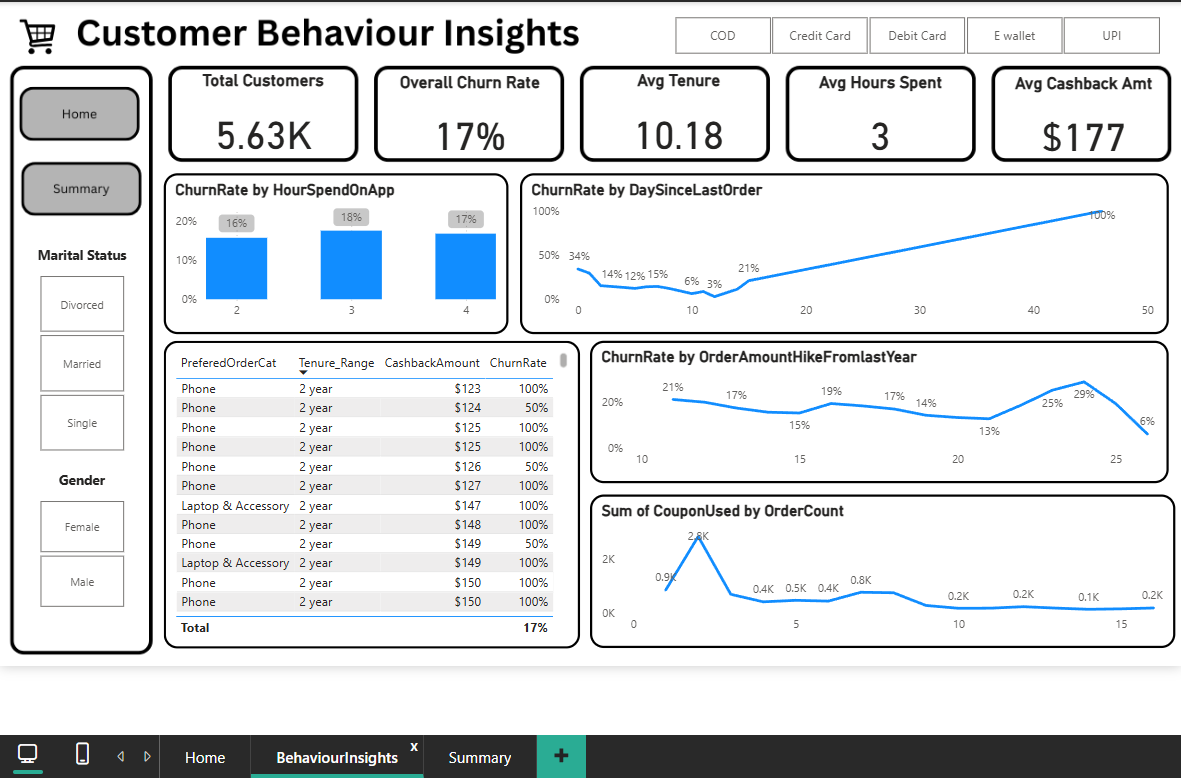

The page's visual inventory and layout, read from the dashboard file:
{"tool":"powerbi","page":{"name":"BehaviourInsights","canvas":[1280,720],"ordinal":1},"visuals":[{"type":"cardVisual","title":"Overall Churn Rate","fields":{"Data":["E Comm.ChurnRate"]},"box":[414.6,75.9,189.7,92.1],"z":0},{"type":"slicer","fields":{"Values":["E Comm.MaritalStatus"]},"box":[17.6,289.9,140.9,203.2],"z":1000},{"type":"cardVisual","title":"Avg Hours Spent","fields":{"Data":["Avg(E Comm.HourSpendOnApp)"]},"box":[860.3,75.3,188.3,92.7],"z":2000},{"type":"slicer","fields":{"Values":["E Comm.PreferredPaymentMode"]},"box":[705.3,10.1,575,53.6],"z":3000},{"type":"cardVisual","title":"Avg Tenure","fields":{"Data":["Avg(E Comm.Tenure)"]},"box":[640.1,73.9,189.7,92.7],"z":4000},{"type":"cardVisual","title":"Total Customers","fields":{"Data":["Count(E Comm.CustomerID)"]},"box":[189.7,73.9,191.2,92.7],"z":5000},{"type":"cardVisual","title":"Avg Cashback Amt","fields":{"Data":["Avg(E Comm.CashbackAmount)"]},"box":[1082.5,77.2,184.3,90.8],"z":6000},{"type":"clusteredColumnChart","fields":{"Y":["E Comm.ChurnRate"],"Category":["E Comm.HourSpendOnApp"]},"box":[177.5,185.6,373.9,174.8],"z":7000},{"type":"lineChart","fields":{"Category":["E Comm.OrderAmountHikeFromlastYear"],"Y":["E Comm.ChurnRate"]},"box":[639.5,367.1,627.3,154.4],"z":8000},{"type":"lineChart","fields":{"Category":["E Comm.DaySinceLastOrder"],"Y":["E Comm.ChurnRate"]},"box":[563.6,185.6,703.1,174.8],"z":9000},{"type":"slicer","fields":{"Values":["E Comm.Gender"]},"box":[17.6,533.8,140.9,128.7],"z":10000},{"type":"textbox","box":[19,258.8,139.5,31.2],"z":11000},{"type":"textbox","box":[19,502.6,139.5,31.2],"z":12000},{"type":"lineChart","fields":{"Category":["E Comm.OrderCount"],"Y":["Sum(E Comm.CouponUsed)"]},"box":[639.5,533.8,634,166.6],"z":13000},{"type":"tableEx","fields":{"Values":["E Comm.PreferedOrderCat","E Comm.Tenure_Range","E Comm.CashbackAmount","E Comm.ChurnRate"]},"box":[177.5,367.1,451.1,333.3],"z":14000},{"type":"actionButton","box":[29.8,97.5,116.5,46.1],"z":15000},{"type":"actionButton","box":[31.2,185.6,116.5,46.1],"z":16000}]}

Visuals, with their boxes in screenshot pixels (x1, y1, x2, y2):
"Overall Churn Rate" cardVisual: box(380, 72, 553, 156)
slicer - E Comm.MaritalStatus: box(19, 267, 147, 452)
"Avg Hours Spent" cardVisual: box(786, 72, 957, 156)
slicer - E Comm.PreferredPaymentMode: box(645, 12, 1168, 61)
"Avg Tenure" cardVisual: box(586, 70, 758, 155)
"Total Customers" cardVisual: box(176, 70, 350, 155)
"Avg Cashback Amt" cardVisual: box(988, 73, 1156, 156)
clusteredColumnChart - E Comm.ChurnRate x E Comm.HourSpendOnApp: box(165, 172, 505, 331)
lineChart - E Comm.OrderAmountHikeFromlastYear x E Comm.ChurnRate: box(585, 337, 1156, 478)
lineChart - E Comm.DaySinceLastOrder x E Comm.ChurnRate: box(516, 172, 1156, 331)
slicer - E Comm.Gender: box(19, 489, 147, 606)
textbox: box(20, 239, 147, 267)
textbox: box(20, 460, 147, 489)
lineChart - E Comm.OrderCount x Sum(E Comm.CouponUsed): box(585, 489, 1162, 640)
tableEx - E Comm.PreferedOrderCat x E Comm.Tenure_Range: box(165, 337, 575, 640)
actionButton: box(30, 92, 136, 134)
actionButton: box(31, 172, 137, 214)
